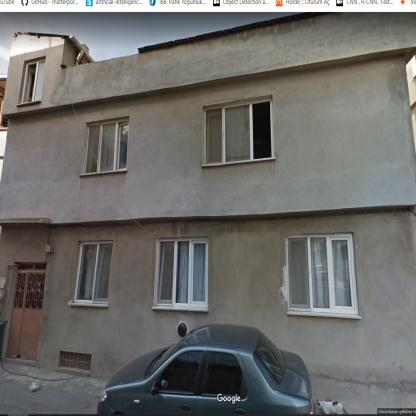door: (6, 268, 46, 360)
window: (286, 233, 359, 314), (154, 239, 208, 307), (202, 100, 252, 166), (72, 242, 112, 304), (84, 118, 129, 173), (19, 59, 45, 103), (60, 351, 90, 369)
